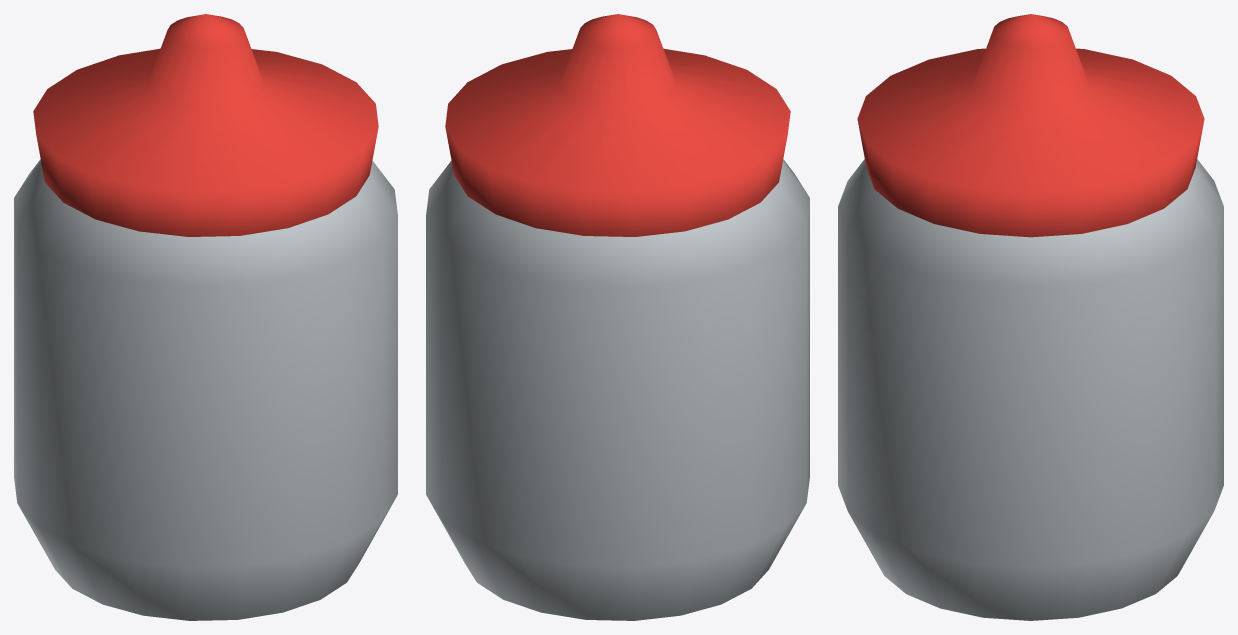
Rendered from furn_cookie_jar.glb.
3 renders of one model, left to right at view 1: azimuth 30°, elevation 25°; view 2: azimuth 150°, elevation 25°; view 3: azimuth 270°, elevation 25°, orthographic.
Parts seen in each view (by area): view 1: furn_cookie_jar_clear, furn_cookie_jar_main; view 2: furn_cookie_jar_clear, furn_cookie_jar_main; view 3: furn_cookie_jar_clear, furn_cookie_jar_main.
Part boxes in pixels (bbox=[...]): furn_cookie_jar_clear: bbox=[14, 159, 397, 620]; furn_cookie_jar_main: bbox=[33, 14, 378, 236]; furn_cookie_jar_clear: bbox=[426, 159, 809, 620]; furn_cookie_jar_main: bbox=[445, 14, 790, 236]; furn_cookie_jar_clear: bbox=[838, 159, 1223, 620]; furn_cookie_jar_main: bbox=[857, 14, 1204, 237].
Bounding box in the file's own units: 0.2 × 0.31 × 0.2.
